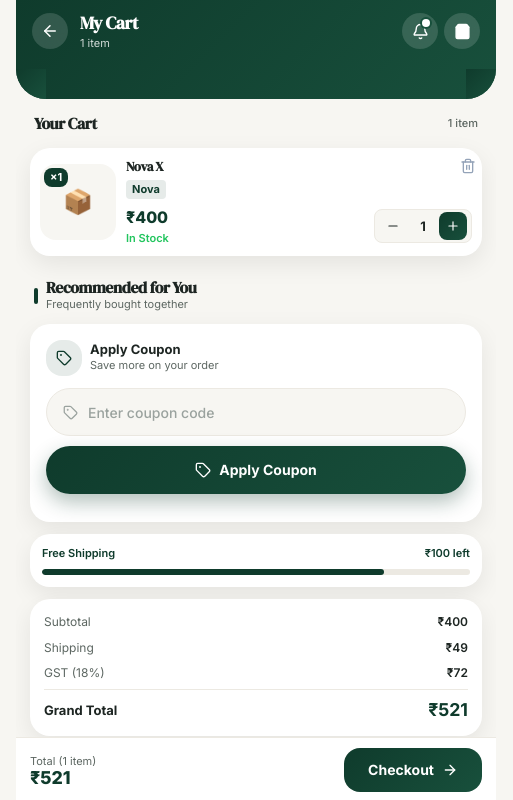
Test: MobileCart › rejects a code the server does not know, without discounting
The image size is (513, 800).
Expected: the heading "Nova X" is shown, [126,158,166,176]
In the field with placeholder "Enter coupon code": (268, 412) [88,389,449,435], type "PHONE10"
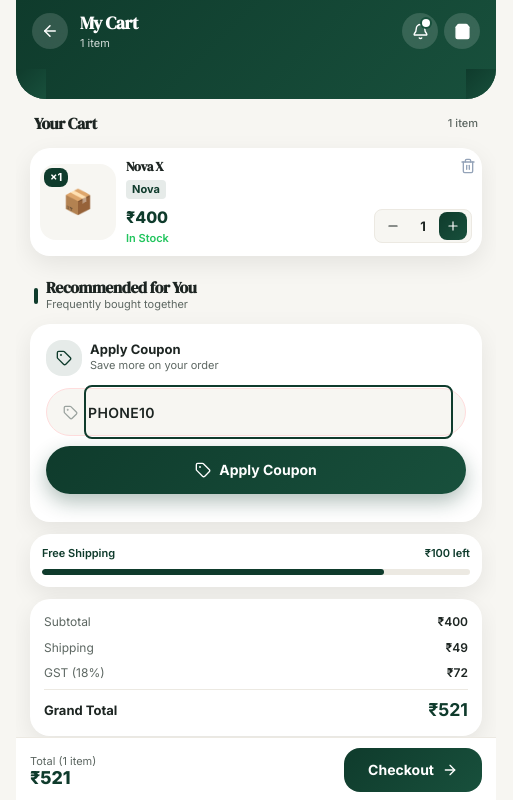
Click the button "Apply Coupon": (256, 470) [46,446,466,494]
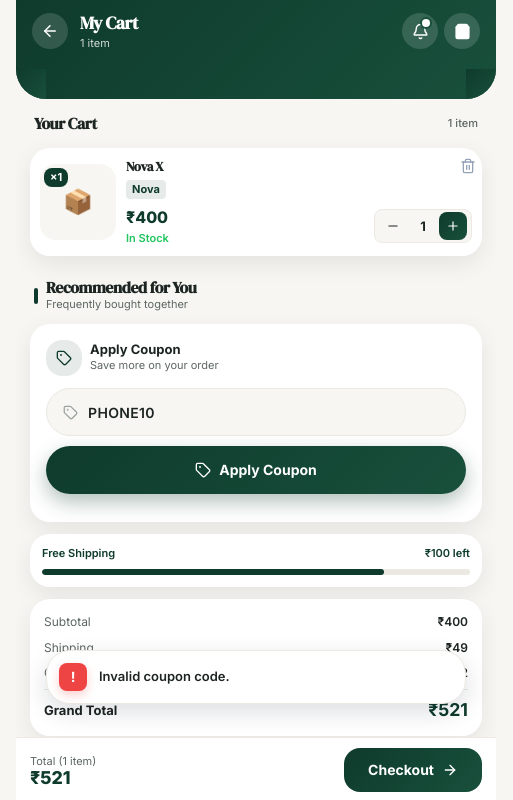
Expected: the text "₹521" in the row of "Grand Total" is shown, [428,699,468,720]
Expected: the text "Invalid coupon code." is shown, [99,668,230,684]
